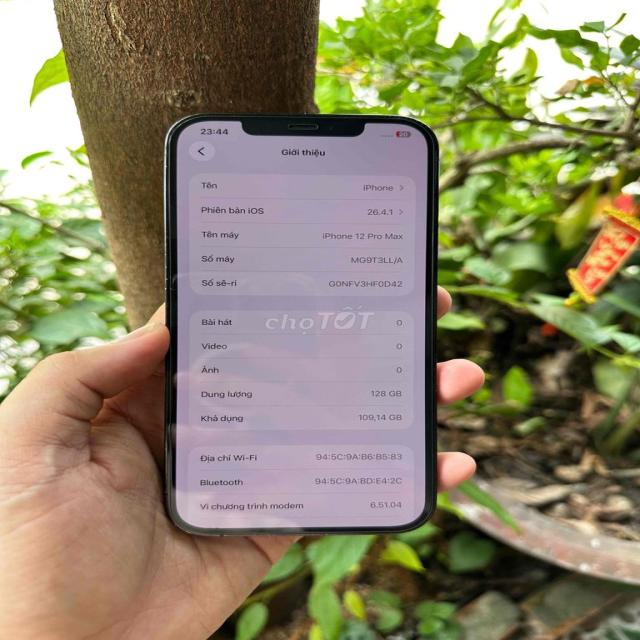gen_12_13: (153, 100, 460, 556)
